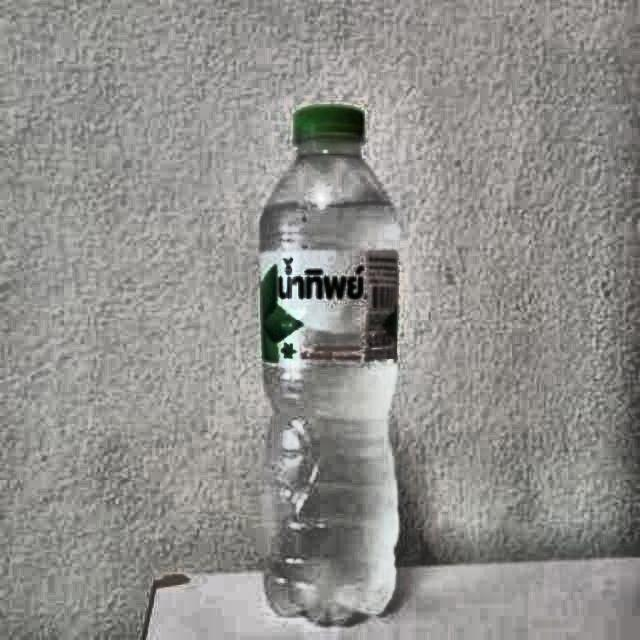Bottles: (239, 95, 419, 631)
